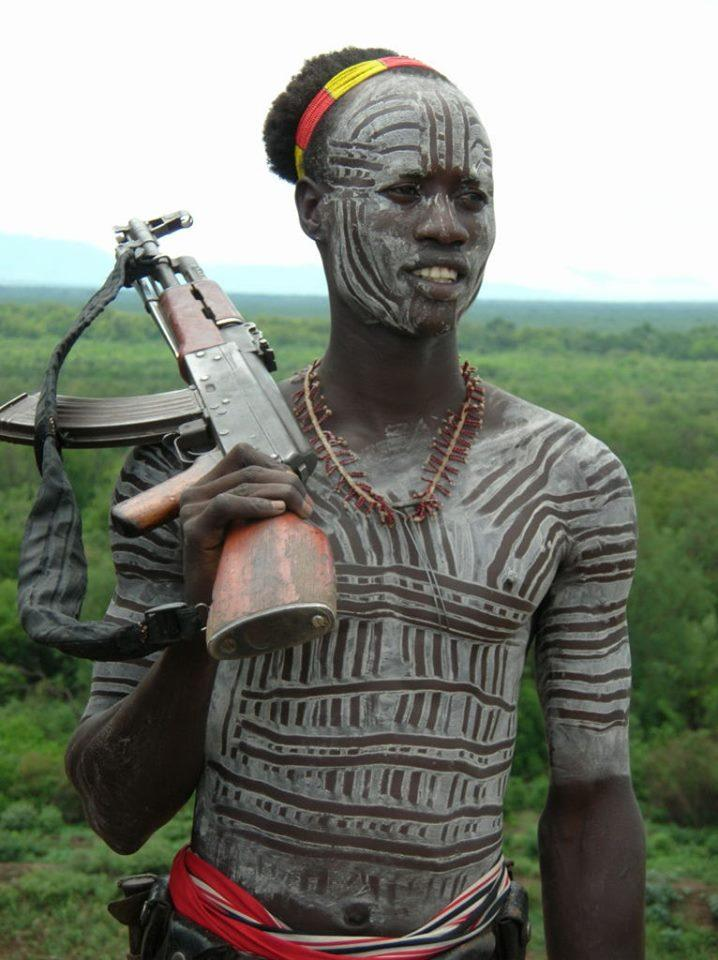larga: (0, 210, 342, 664)
